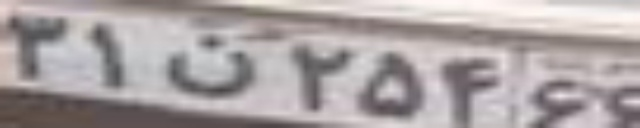1: (88, 22, 124, 86)
2: (290, 44, 350, 112)
3: (8, 14, 72, 79)
4: (440, 58, 500, 127)
5: (356, 50, 428, 119)
6: (525, 79, 584, 126), (606, 81, 638, 127)
non: (163, 31, 260, 102)
